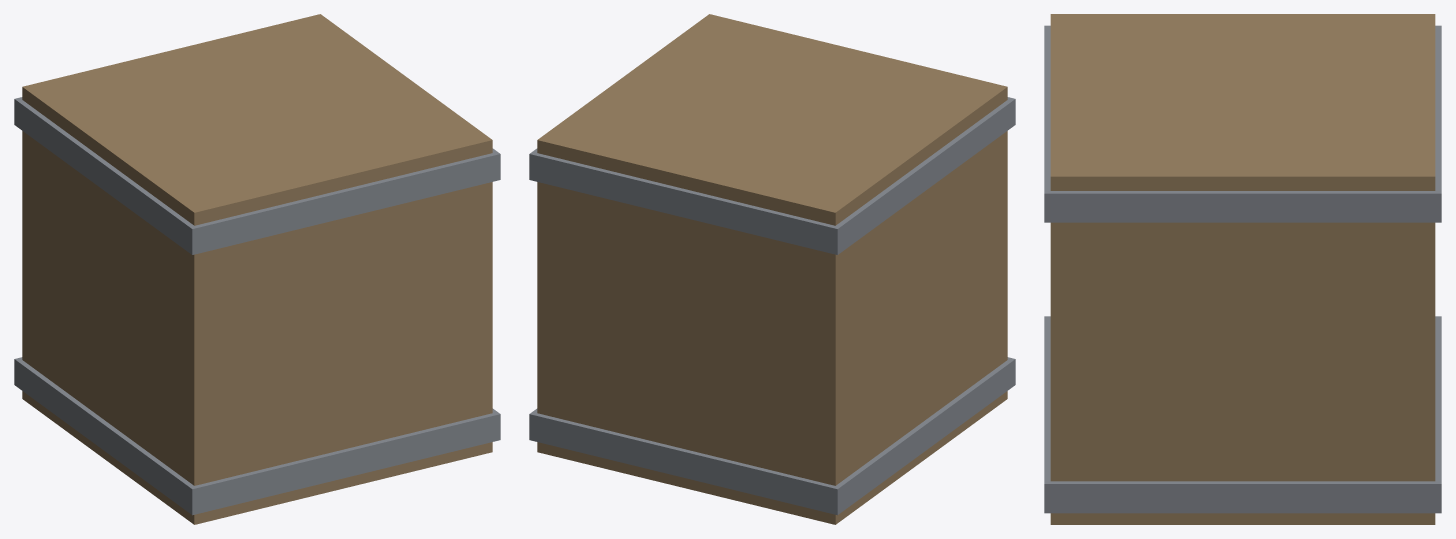
The model's file is crate.glb.
The picture shows the model from 3 angles, left to right: view 1: azimuth 30°, elevation 25°; view 2: azimuth 150°, elevation 25°; view 3: azimuth 270°, elevation 25°; orthographic projection. The views are drawn at different scales.
Visible parts, largest first — view 1: Crate; view 2: Crate; view 3: Crate.
Part boxes in pixels (x1=…): Crate: x1=14, y1=14, x2=500, y2=524; Crate: x1=529, y1=14, x2=1015, y2=524; Crate: x1=1044, y1=14, x2=1441, y2=524.
Bounding box in the file's own units: 0.62 × 0.6 × 0.62.
